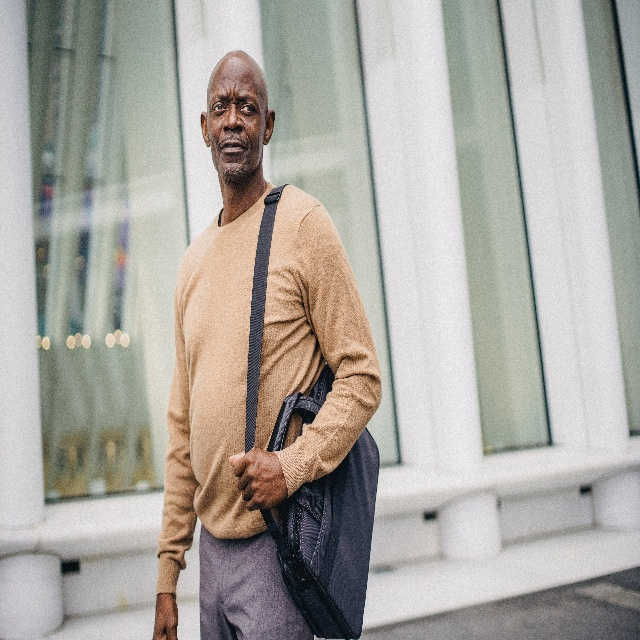Sin_guantes: (228, 446, 288, 512), (151, 591, 182, 640)
